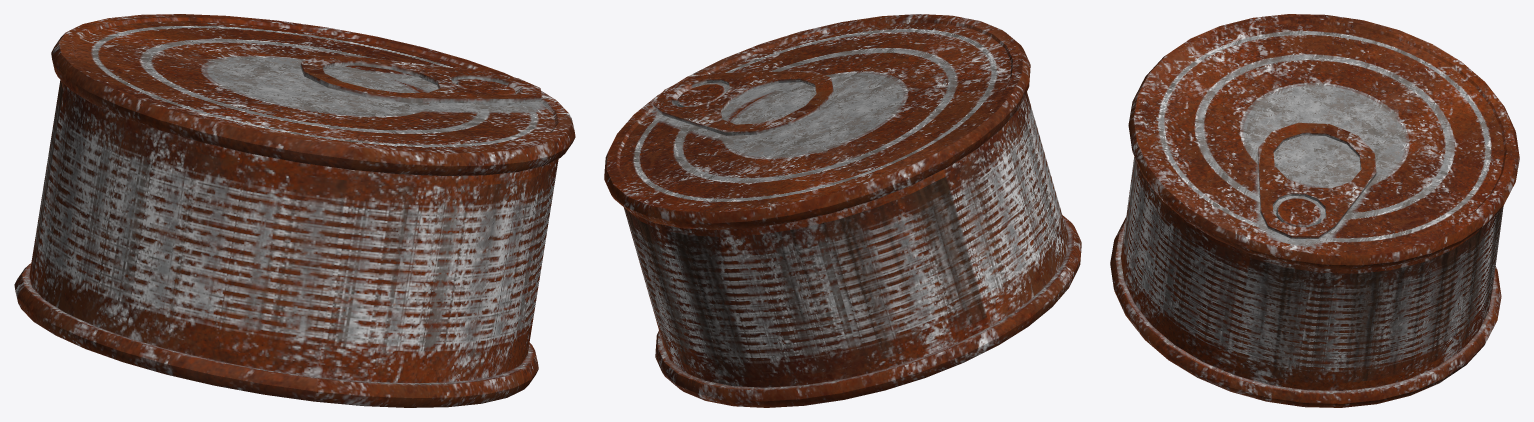
The picture shows the model from 3 angles, left to right: view 1: azimuth 30°, elevation 25°; view 2: azimuth 150°, elevation 25°; view 3: azimuth 270°, elevation 25°; orthographic projection. The views are drawn at different scales.
Parts seen in each view (by area): view 1: Can1_low; view 2: Can1_low; view 3: Can1_low.
Boxes of the visible parts, x1,y1,x2,y2 form: Can1_low: (14, 14, 575, 407); Can1_low: (604, 14, 1081, 407); Can1_low: (1110, 14, 1519, 407).
Size of the model in its own units: 162 by 110 by 156.
2 materials, 2 textured.
